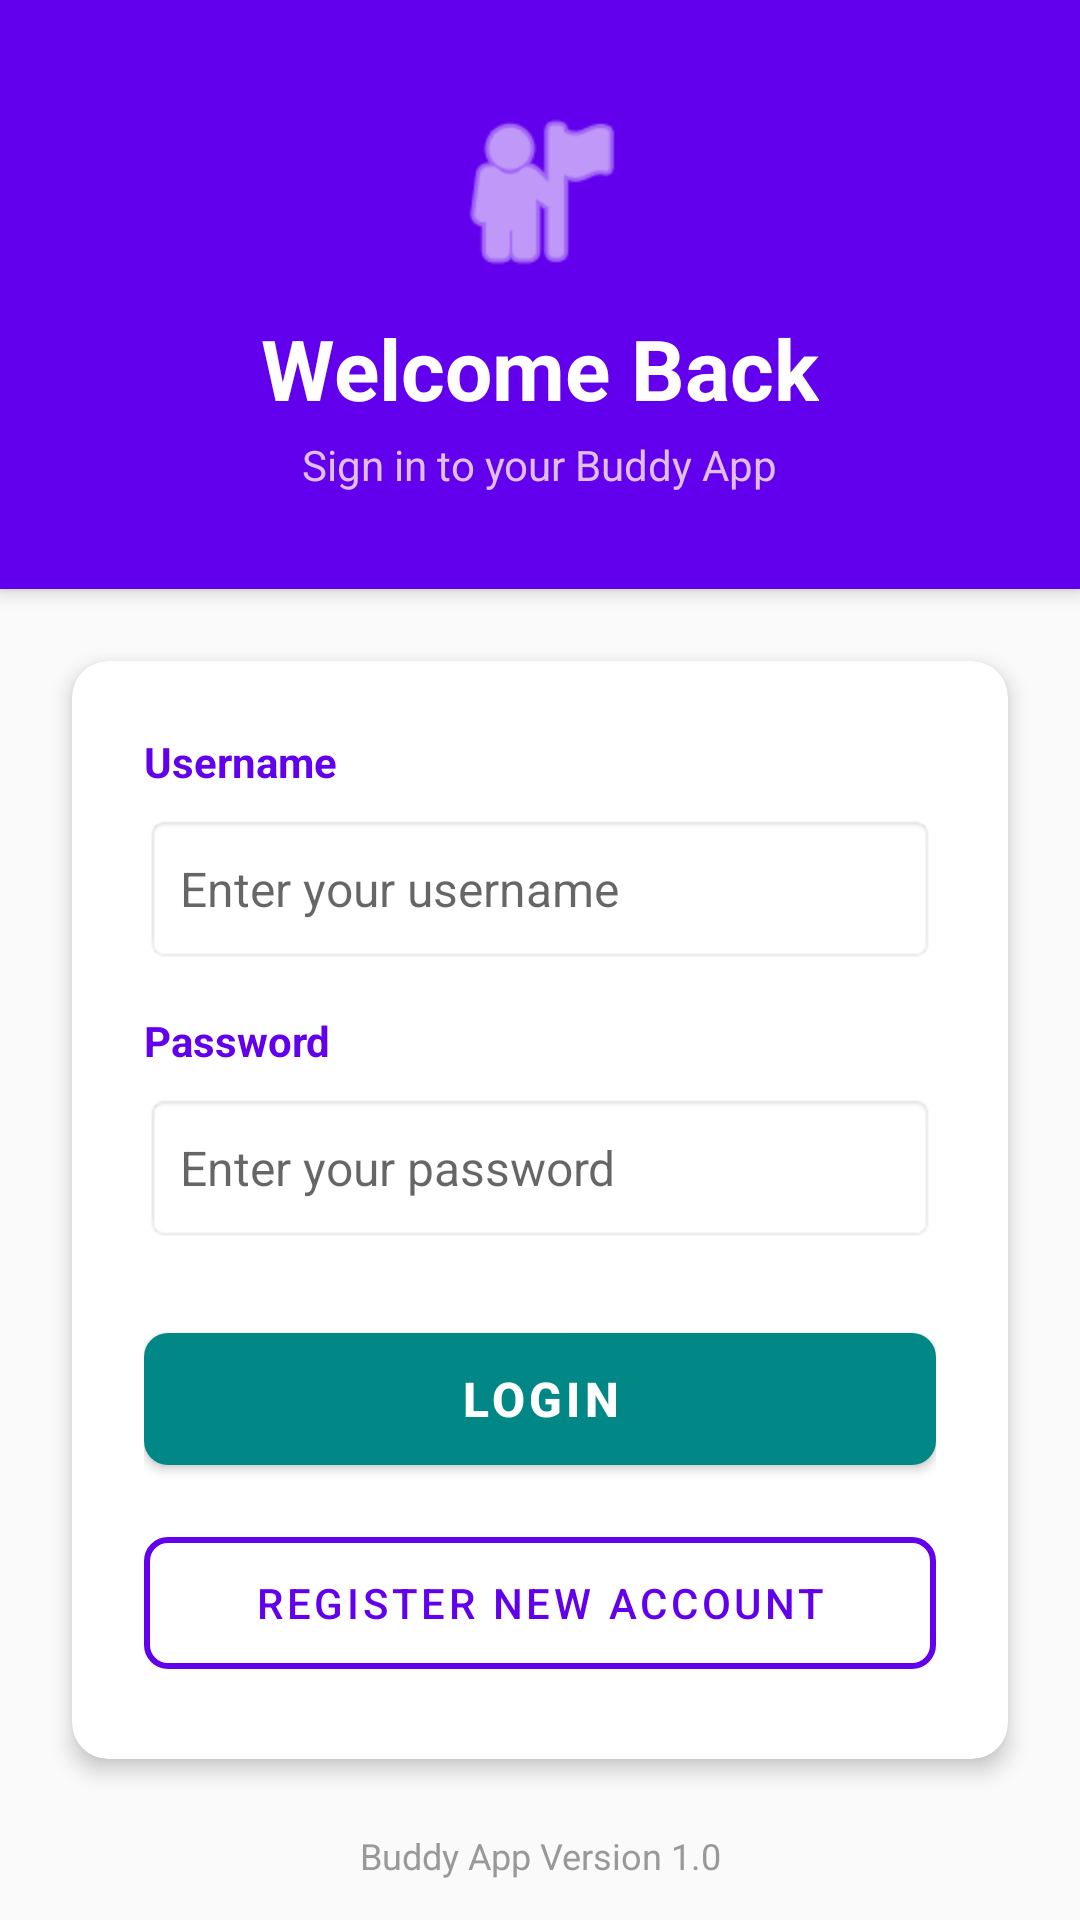

Named icons in this screenshot (1080px×1920px) and their bounding boxes, (x1, y1, x2, y2):
myplaces: (470, 120, 614, 264)
